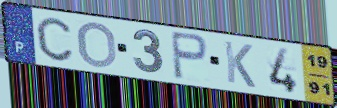3: (131, 28, 166, 76)
4: (267, 46, 299, 95)
C: (35, 16, 75, 63)
K: (222, 39, 258, 90)
O: (76, 20, 119, 70)
P: (169, 29, 211, 82)
